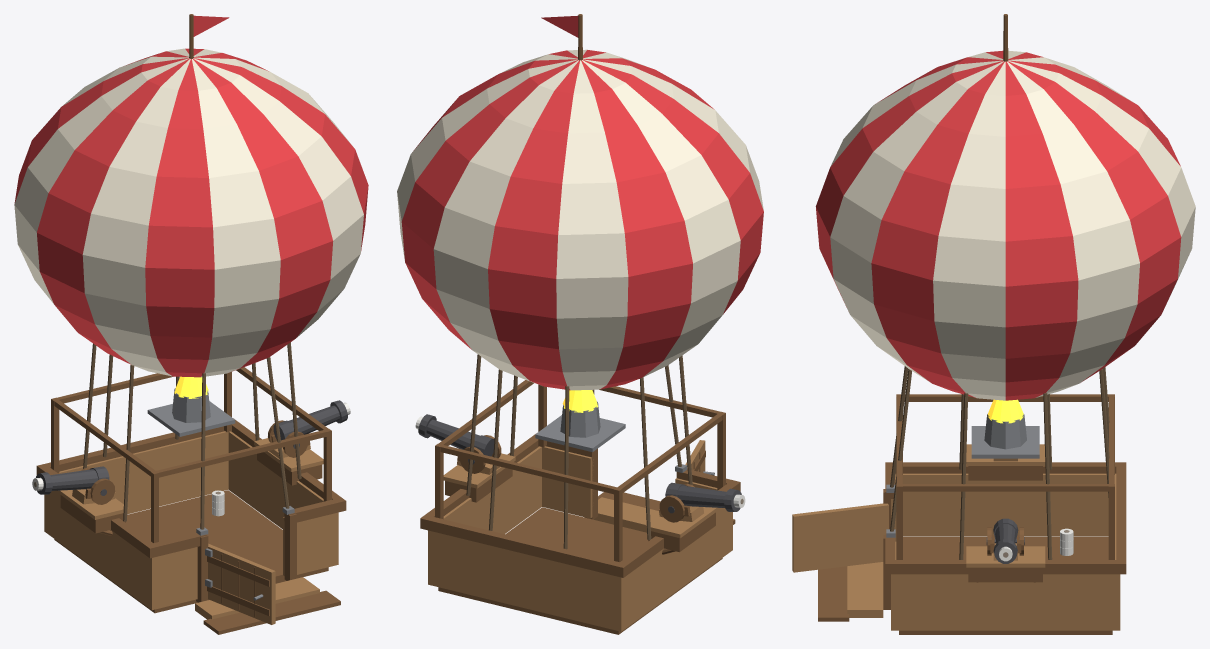
Rendered from balloon.glb.
3 views of the same model, side by side, from view 1: azimuth 30°, elevation 25°; view 2: azimuth 150°, elevation 25°; view 3: azimuth 270°, elevation 25° (orthographic). The views are drawn at different scales.
Parts seen in each view (by area): view 1: BAL_Envelope, BAL_Cabin_Floor, BAL_Cabin_WallBack, BAL_Cabin_WallLeft, BAL_Cabin_WallRight, BAL_Door, BAL_Cabin_WallFront_L, BAL_Cabin_WallFront_R, BAL_Step_Lower, BAL_Rim_B, BAL_Beam_F, BAL_Step_Upper (+26 smaller); view 2: BAL_Envelope, BAL_Cabin_WallBack, BAL_Cabin_Floor, BAL_Cabin_WallLeft, BAL_Cabin_WallRight, BAL_Rim_B, BAL_Cabin_WallFront_R, BAL_Beam_B, BAL_BurnerDeck, BAL_Step_Upper, BAL_Beam_L, BAL_Burner.002 (+21 smaller); view 3: BAL_Envelope, BAL_Cabin_WallRight, BAL_Cabin_WallLeft, BAL_Door, BAL_Cabin_Floor, BAL_Rim_R, BAL_Step_Upper, BAL_Step_Lower, BAL_Beam_R, BAL_Rim_L, BAL_BurnerDeck, BAL_Cannon_SponsonTop_R (+11 smaller).
Part boxes in pixels (left/top/right/bottom): BAL_Envelope: left=14, top=48, right=368, bottom=377; BAL_Cabin_Floor: left=54, top=490, right=328, bottom=613; BAL_Cabin_WallBack: left=44, top=431, right=228, bottom=533; BAL_Cabin_WallLeft: left=47, top=490, right=148, bottom=607; BAL_Cabin_WallRight: left=228, top=431, right=323, bottom=529; BAL_Door: left=208, top=543, right=275, bottom=624; BAL_Cabin_WallFront_L: left=148, top=547, right=197, bottom=610; BAL_Cabin_WallFront_R: left=283, top=512, right=338, bottom=575; BAL_Step_Lower: left=203, top=590, right=340, bottom=634; BAL_Rim_B: left=36, top=418, right=236, bottom=474; BAL_Beam_F: left=151, top=428, right=331, bottom=478; BAL_Step_Upper: left=195, top=577, right=319, bottom=619; BAL_Envelope: left=397, top=49, right=763, bottom=390; BAL_Cabin_WallBack: left=428, top=530, right=624, bottom=631; BAL_Cabin_Floor: left=438, top=507, right=722, bottom=634; BAL_Cabin_WallLeft: left=625, top=508, right=729, bottom=628; BAL_Cabin_WallRight: left=443, top=446, right=541, bottom=534; BAL_Rim_B: left=420, top=515, right=627, bottom=577; BAL_Cabin_WallFront_R: left=542, top=446, right=593, bottom=518; BAL_Beam_B: left=435, top=443, right=621, bottom=495; BAL_BurnerDeck: left=535, top=415, right=625, bottom=452; BAL_Step_Upper: left=584, top=497, right=659, bottom=532; BAL_Beam_L: left=618, top=414, right=722, bottom=492; BAL_Burner.002: left=560, top=401, right=600, bottom=437; BAL_Envelope: left=815, top=50, right=1195, bottom=400; BAL_Cabin_WallRight: left=898, top=574, right=1113, bottom=630; BAL_Cabin_WallLeft: left=902, top=473, right=1108, bottom=536; BAL_Door: left=792, top=503, right=888, bottom=572; BAL_Cabin_Floor: left=899, top=537, right=1112, bottom=634; BAL_Rim_R: left=894, top=560, right=1116, bottom=574; BAL_Step_Upper: left=847, top=562, right=883, bottom=617; BAL_Step_Lower: left=818, top=566, right=849, bottom=621; BAL_Beam_R: left=903, top=484, right=1108, bottom=491; BAL_Rim_L: left=895, top=462, right=1116, bottom=473; BAL_BurnerDeck: left=971, top=426, right=1039, bottom=458; BAL_Cannon_SponsonTop_R: left=966, top=546, right=1045, bottom=567.
Size of the model in its own units: 5.37 by 8.85 by 5.63.
